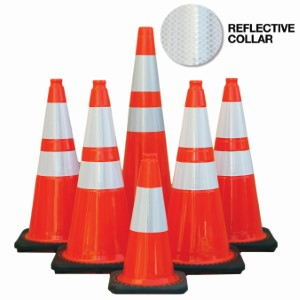traffic cone: (51, 80, 149, 274), (156, 80, 245, 275), (14, 79, 96, 253), (116, 25, 178, 255), (199, 78, 278, 252)
